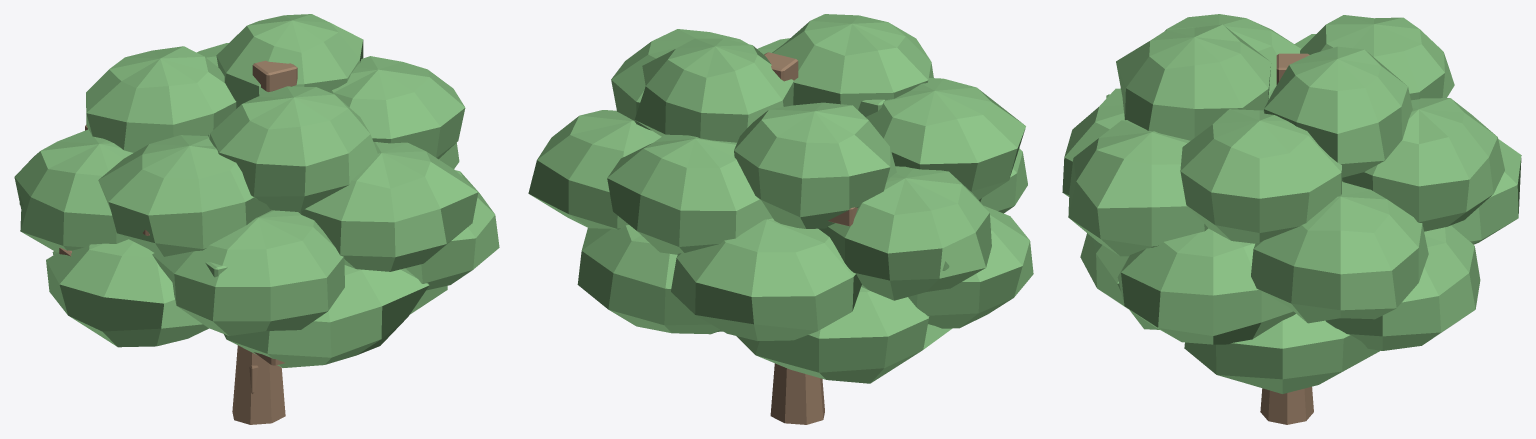
File: b08_honeylocust.glb
3 views of the same model, side by side, from view 1: azimuth 30°, elevation 25°; view 2: azimuth 150°, elevation 25°; view 3: azimuth 270°, elevation 25° (orthographic). The views are drawn at different scales.
Visible parts, largest first — view 1: b08_honeylocust; view 2: b08_honeylocust; view 3: b08_honeylocust.
Boxes of the visible parts, x1,y1,x2,y2 form: b08_honeylocust: (14,14,499,424); b08_honeylocust: (528,14,1033,424); b08_honeylocust: (1062,14,1521,424).
Size of the model in its own units: 5.61 by 4.55 by 4.95.
